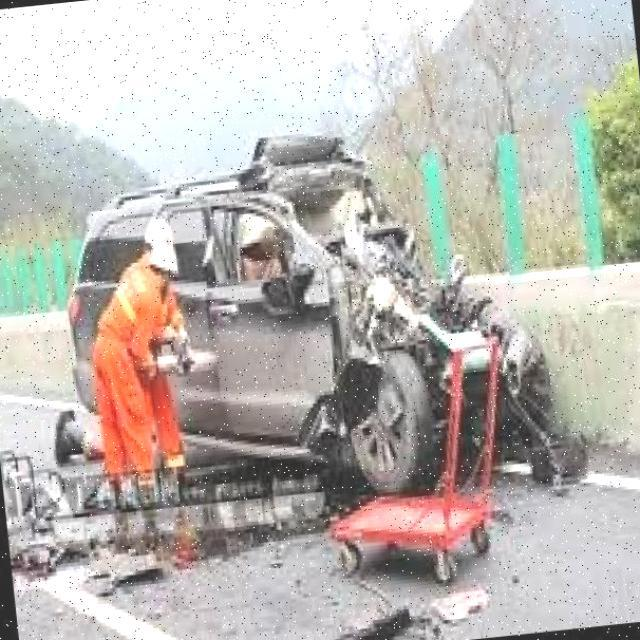accident: (186, 125, 574, 519)
